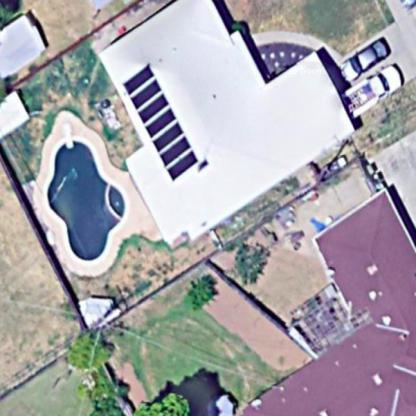car: (336, 59, 408, 118), (332, 26, 389, 84)
solar_panel: (117, 54, 203, 185)
swimming_pool: (42, 121, 126, 274)
